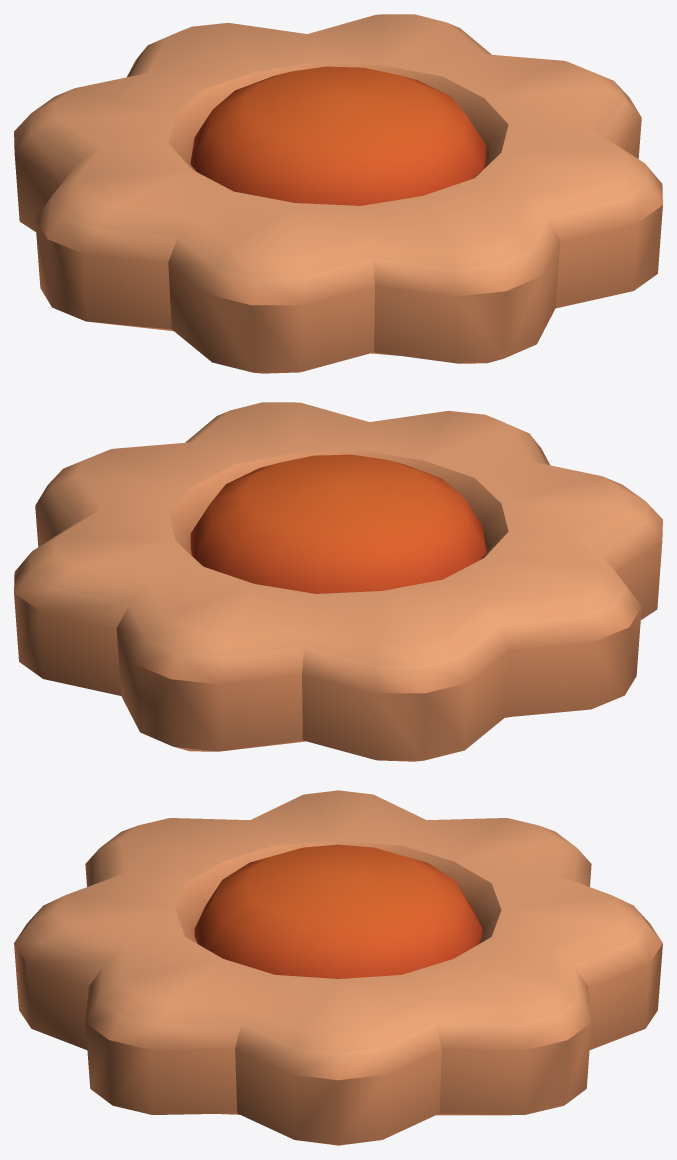
The model's file is cookie.glb.
The picture shows the model from 3 angles, top to bottom: view 1: azimuth 30°, elevation 25°; view 2: azimuth 150°, elevation 25°; view 3: azimuth 270°, elevation 25°; orthographic projection. The views are drawn at different scales.
Visible parts, largest first — view 1: cookie; view 2: cookie; view 3: cookie.
Boxes of the visible parts, box(x1,y1,x2,y2) form: cookie: box(14, 14, 662, 373); cookie: box(14, 402, 662, 761); cookie: box(14, 790, 662, 1145).
Size of the model in its own units: 0.4924 by 0.1284 by 0.4924.
Materials: 1 (1 with a texture image).
